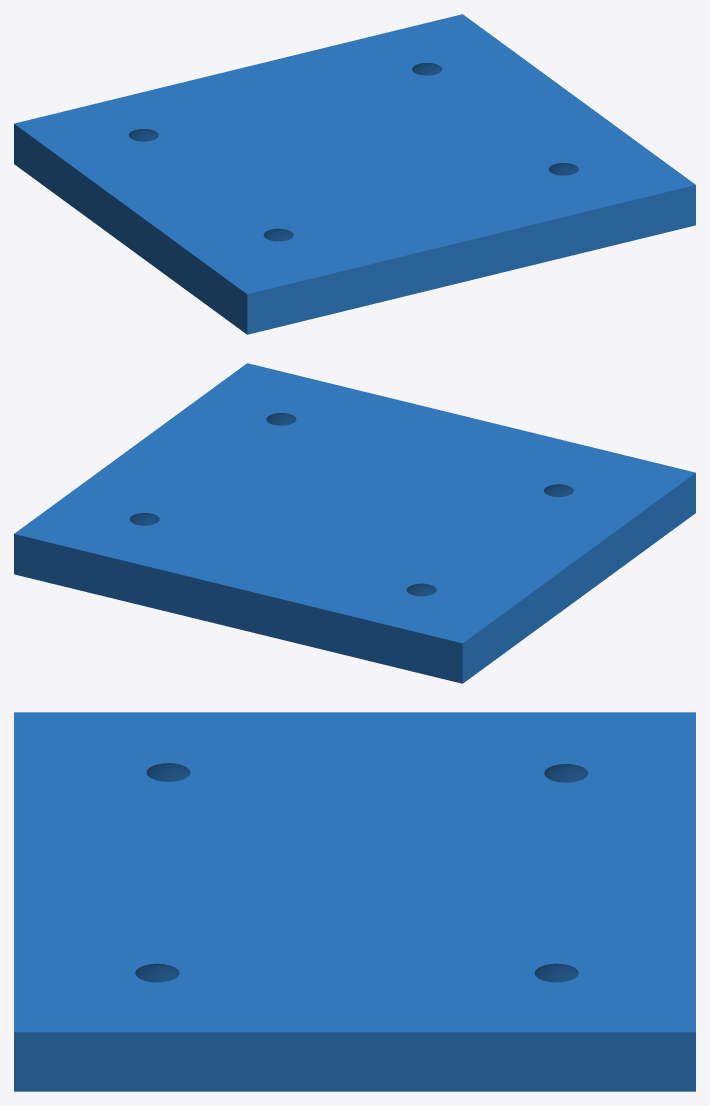
Rendered from 3D Pillow (2).fbx.
The picture shows the model from 3 angles, top to bottom: view 1: azimuth 30°, elevation 25°; view 2: azimuth 150°, elevation 25°; view 3: azimuth 270°, elevation 25°; orthographic projection. The views are drawn at different scales.
Parts seen in each view (by area): view 1: pSphere11; view 2: pSphere11; view 3: pSphere11.
Part boxes in pixels (x1,y1,x2,y2): pSphere11: (14,14,695,334); pSphere11: (14,363,695,683); pSphere11: (14,712,695,1091).
Bounding box in the file's own units: 4.52 × 0.417 × 4.07.
